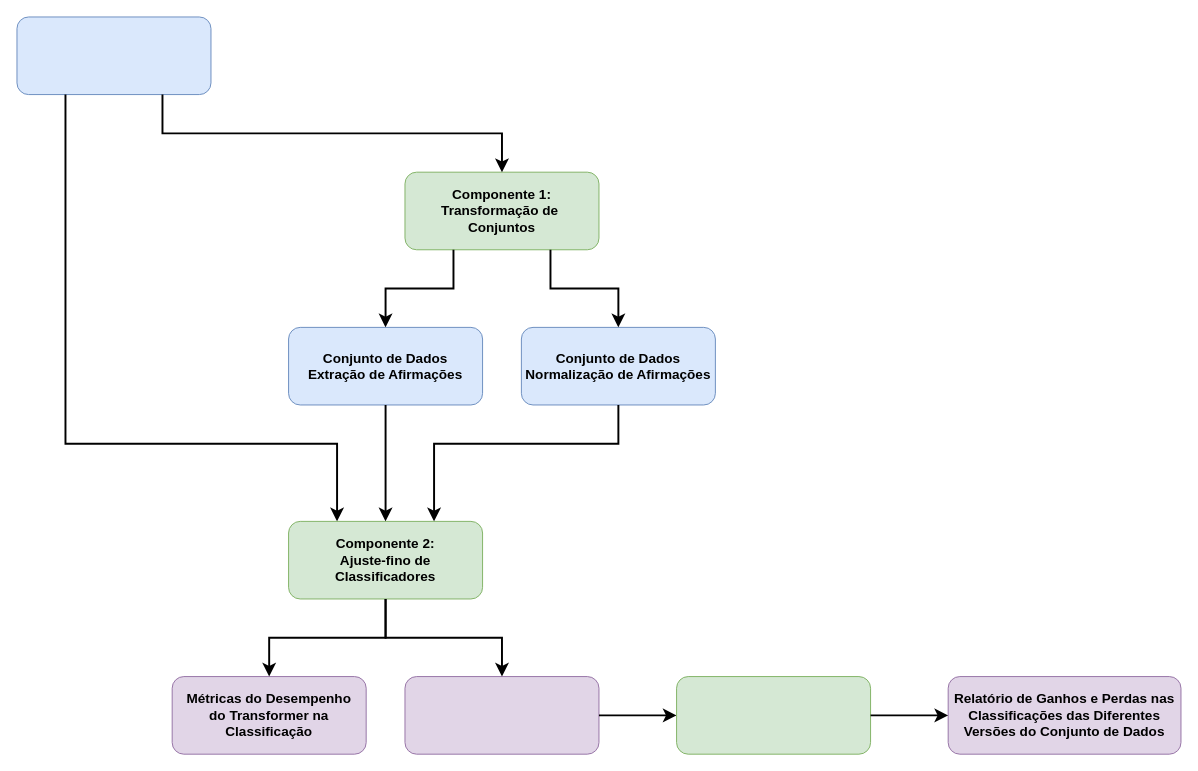
The diagram is 1198 pixels wide and 771 high, and some of its shapes have lost their labels. Here are the shapes that lost their labels. From the top down, the box of each, then its label:
(16, 16, 211, 95): Conjunto de Dados Original
(404, 676, 599, 754): Resultados da Classificação no Conjunto de Teste
(676, 676, 871, 754): Componente 3: Comparação de Classificações
